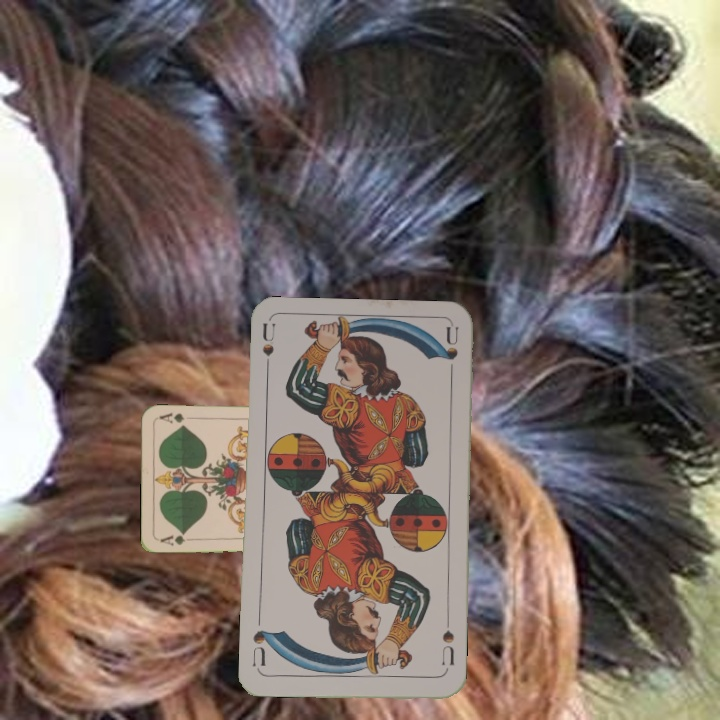GA: (156, 528, 196, 548)
SU: (437, 616, 457, 675), (258, 321, 278, 380)
